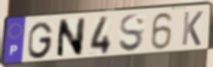4: (88, 15, 113, 57)
6: (149, 11, 175, 51)
G: (26, 20, 55, 60)
K: (180, 10, 205, 47)
N: (55, 16, 88, 60)
S: (118, 13, 146, 54)
